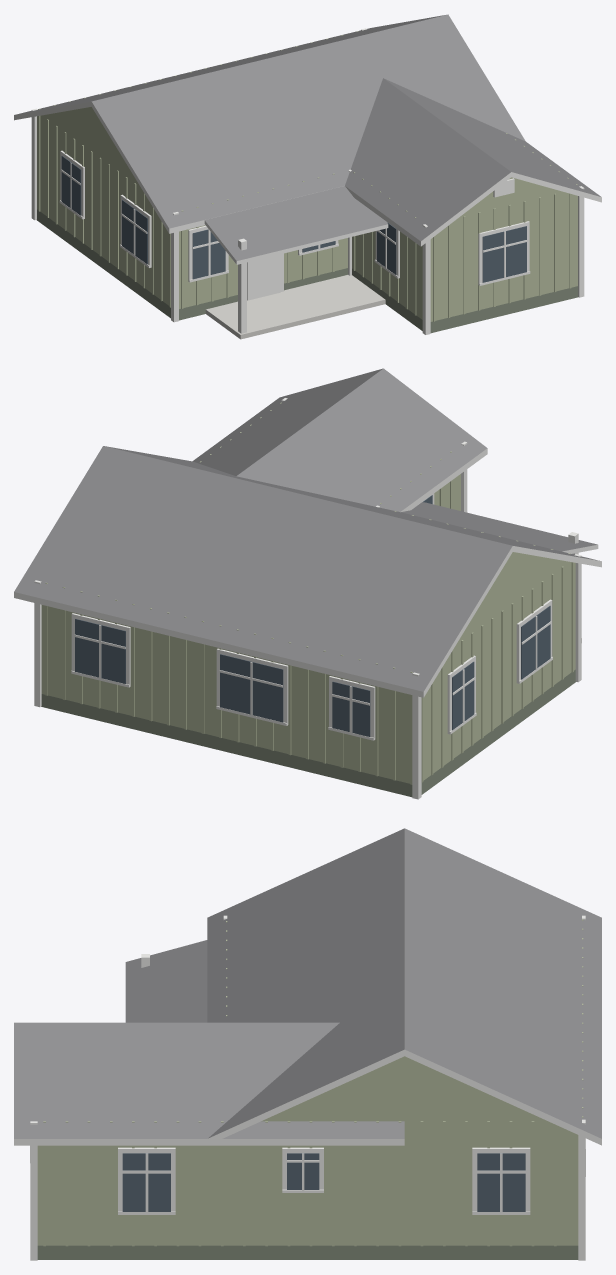
File: olive-sage.glb
3 renders of one model, top to bottom at view 1: azimuth 30°, elevation 25°; view 2: azimuth 150°, elevation 25°; view 3: azimuth 270°, elevation 25°, orthographic. The views are drawn at different scales.
Parts seen in each view (by area): view 1: The Olive (sage); view 2: The Olive (sage); view 3: The Olive (sage).
Part boxes in pixels (box(x1,y1,x2,y2)): The Olive (sage): box(14, 14, 601, 339); The Olive (sage): box(14, 368, 601, 799); The Olive (sage): box(14, 828, 601, 1260).
Size of the model in its own units: 9.9 by 4.57 by 11.12.
